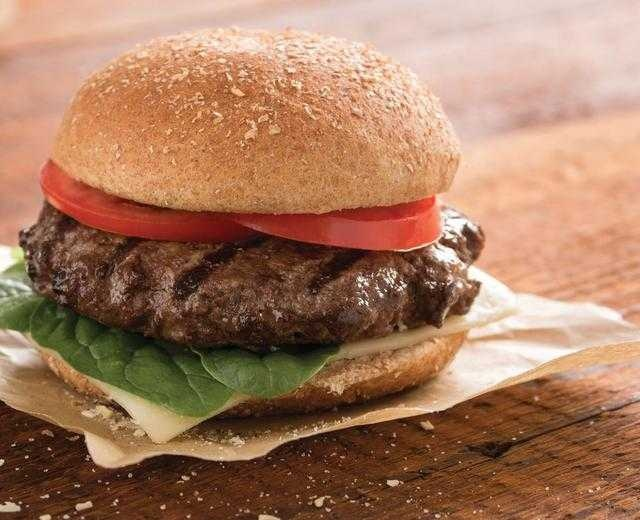hamburger: (26, 23, 495, 436)
